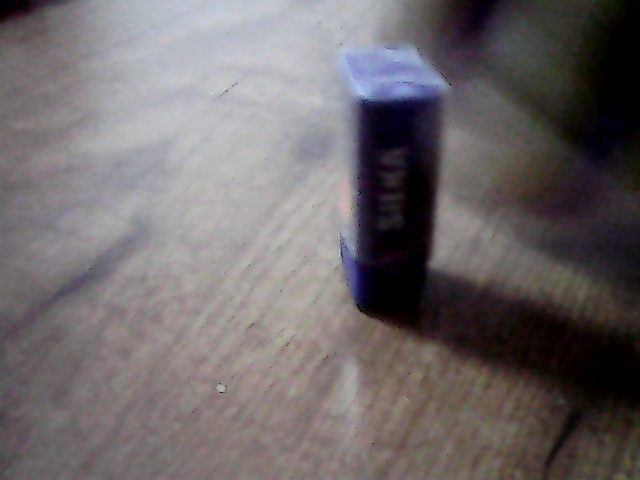bad: (341, 46, 449, 302)
